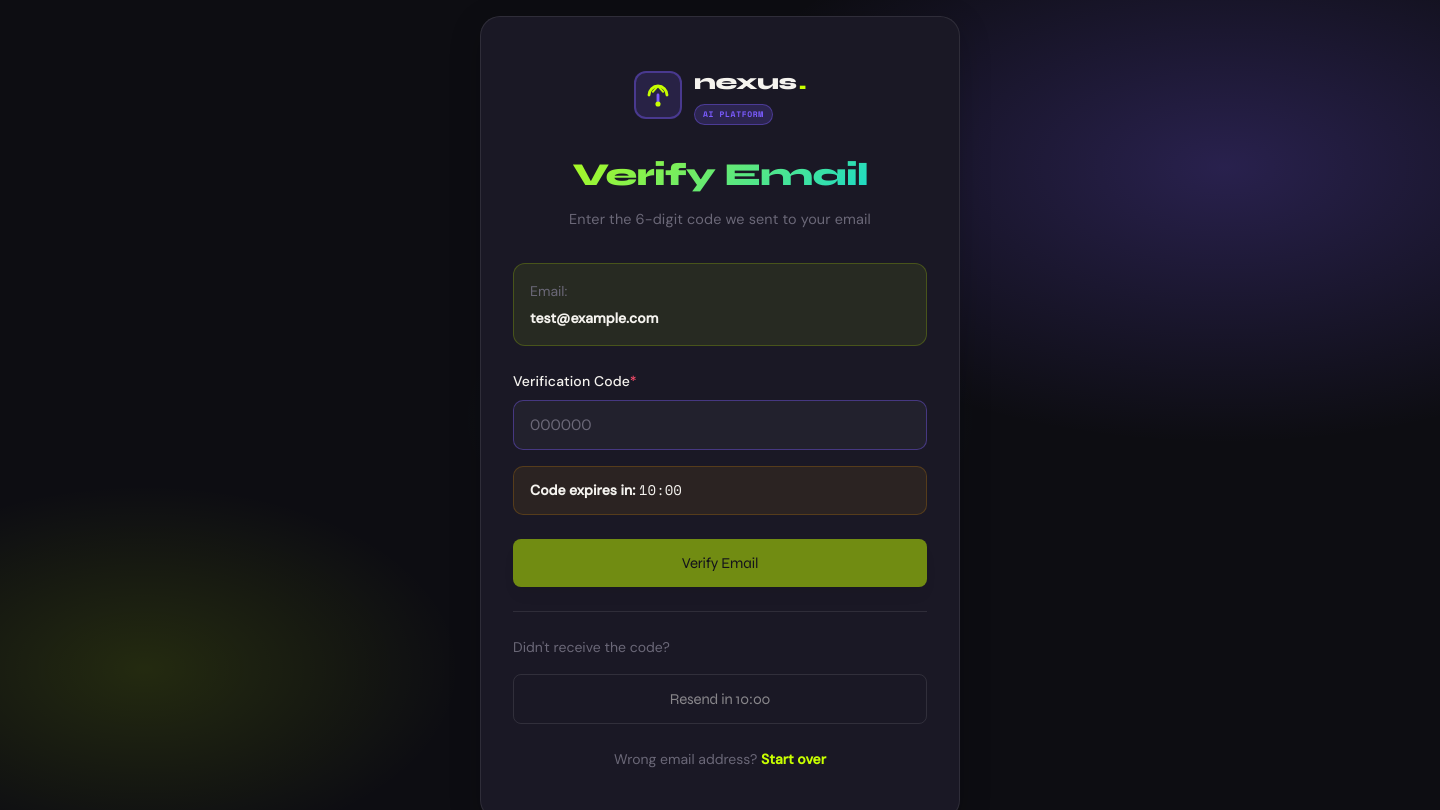
Test: VerifyEmailPage › displays error message for expired code
Type "123456" into the field labelled "Verification Code*" at (720, 425), box left=513, top=400, right=927, bottom=450
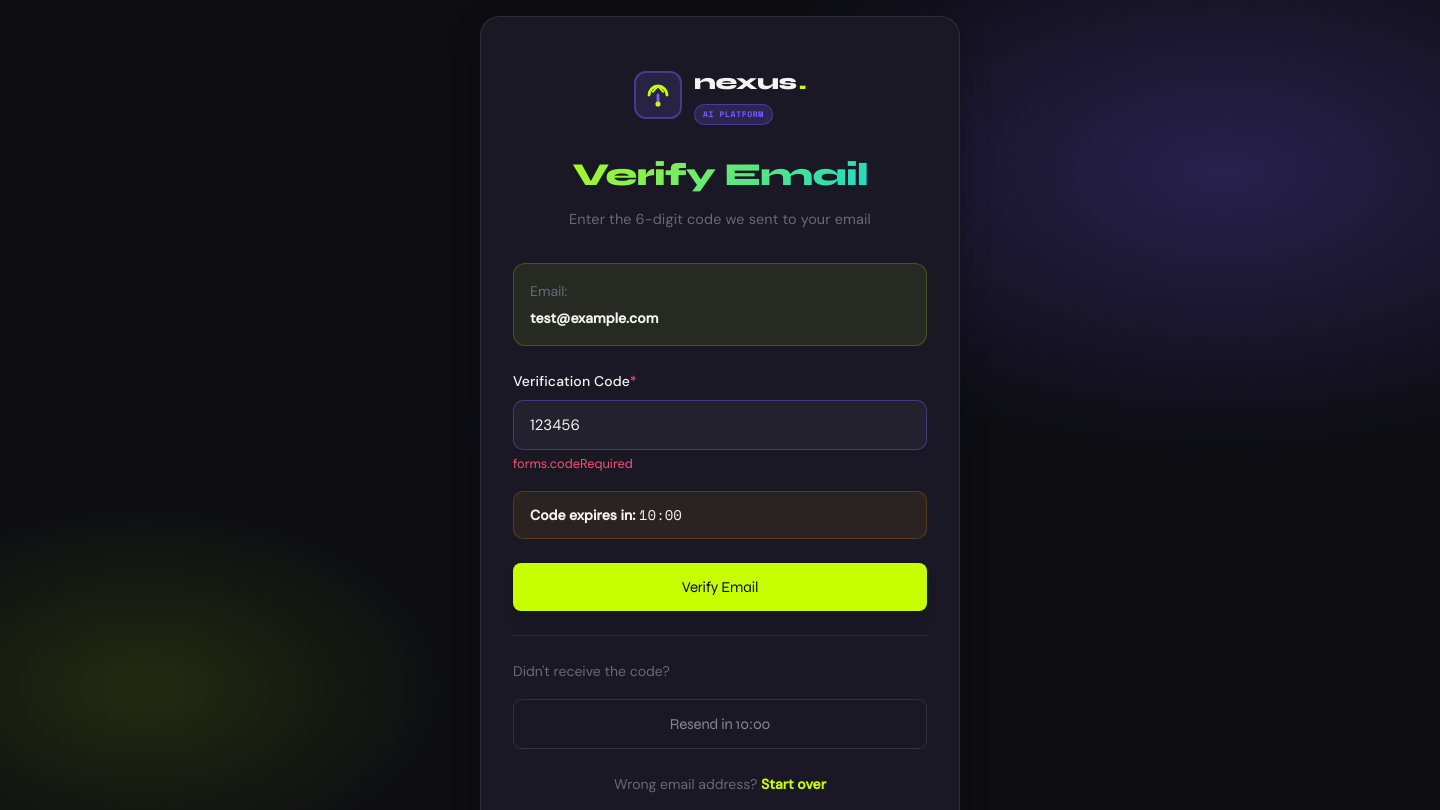
Click the button "Verify Email" at (720, 587), box left=513, top=563, right=927, bottom=611
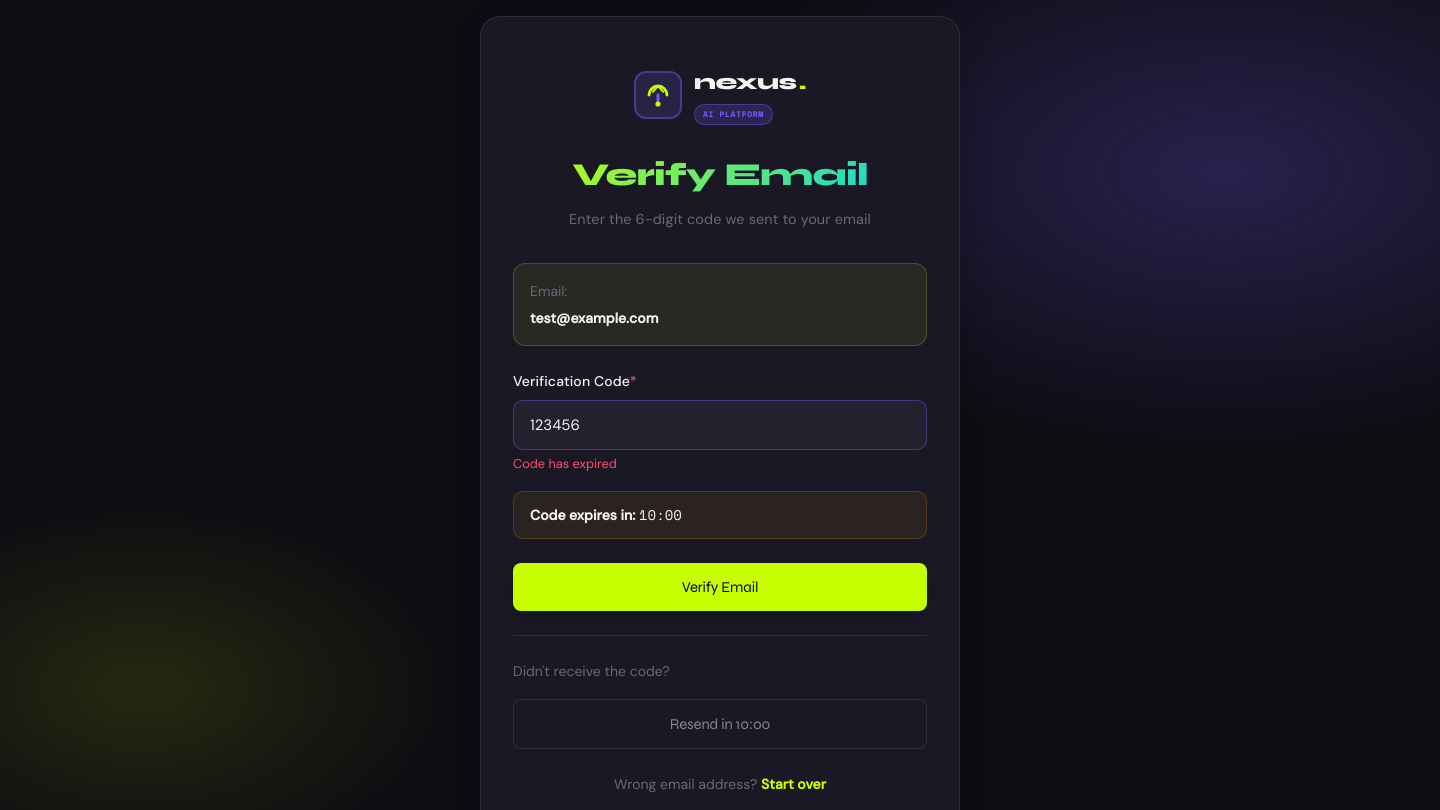
Check: the text "Code has expired" is shown, box left=513, top=455, right=617, bottom=472
